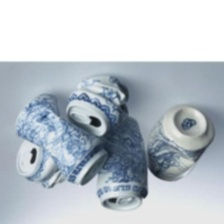can: (12, 90, 110, 188), (142, 103, 217, 183), (95, 114, 150, 214), (69, 73, 132, 137), (14, 137, 67, 191)
